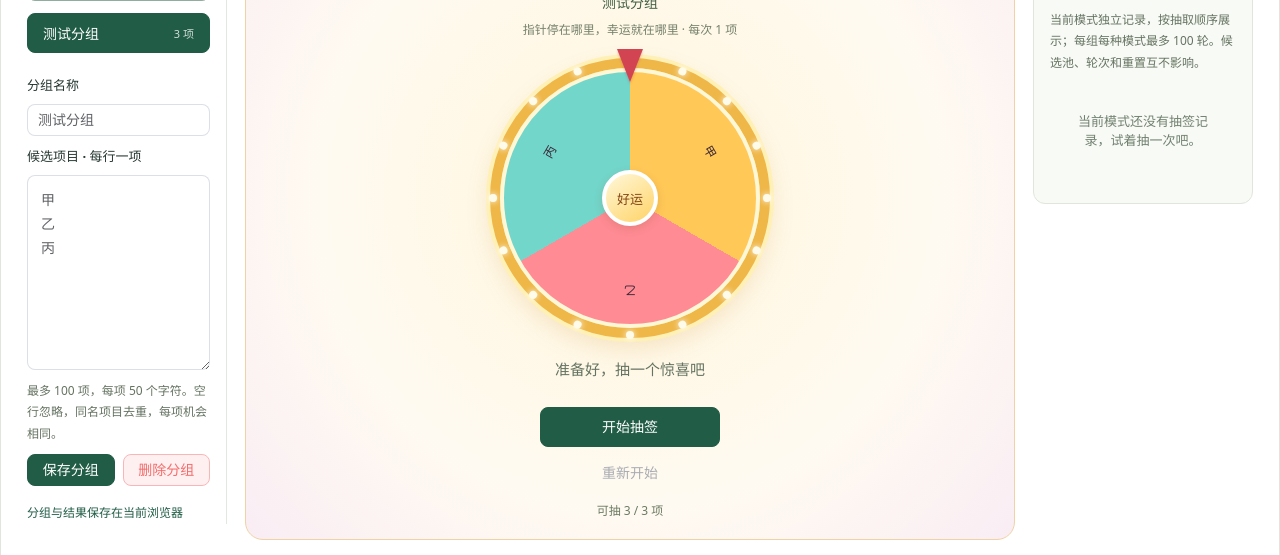
Test: 重置保存失败时弹窗展示错误，保留记录并允许取消
The width and height of the screenshot is (1280, 555).
What coordinates should you click on to do the following:
click the button "开始抽签"
I would click on:
 (630, 427)
Its box is [540, 407, 720, 447].
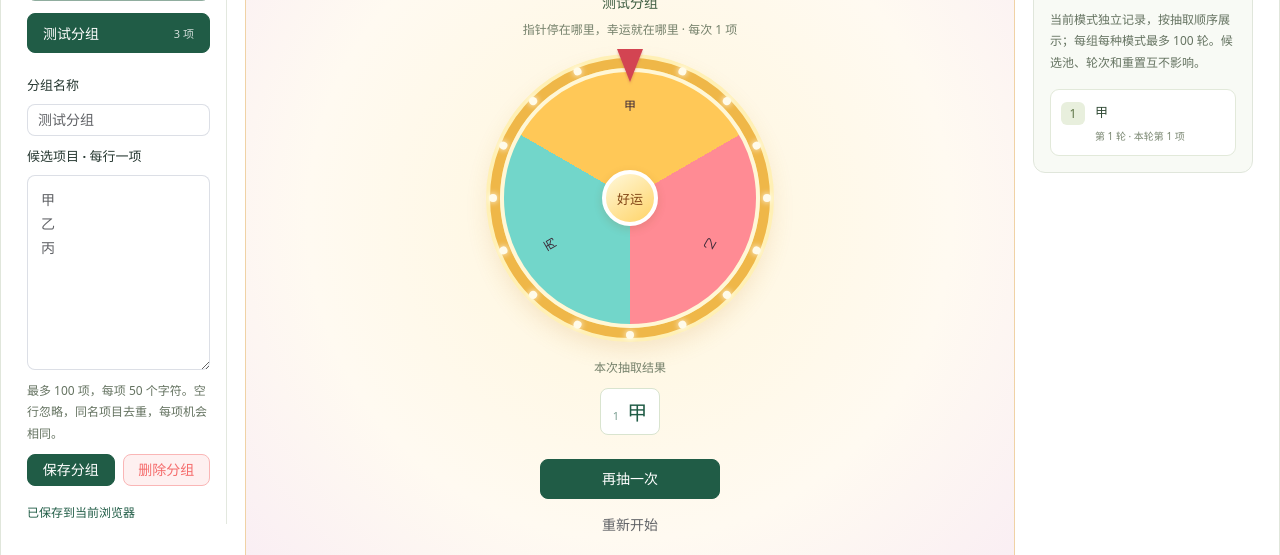
What coordinates should you click on to do the following:
click the button "重新开始"
I would click on:
 (630, 525)
Its box is [587, 509, 673, 541].
(page scrolled)
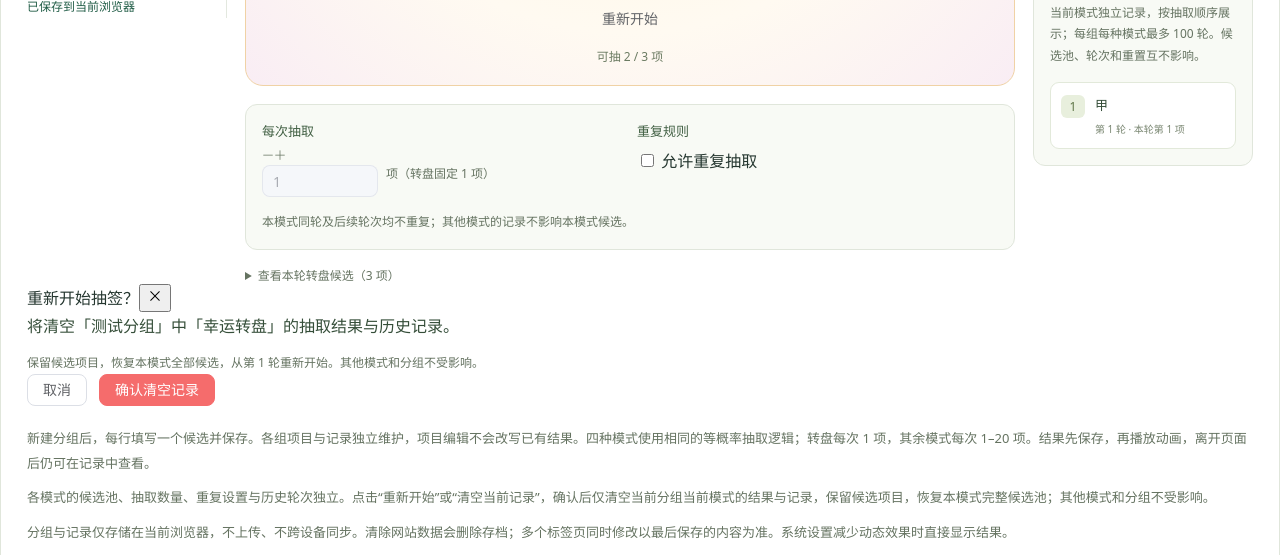
What coordinates should you click on to do the following:
click the button "确认清空记录"
I would click on:
 (157, 390)
Its box is [99, 374, 215, 406].
(page scrolled)
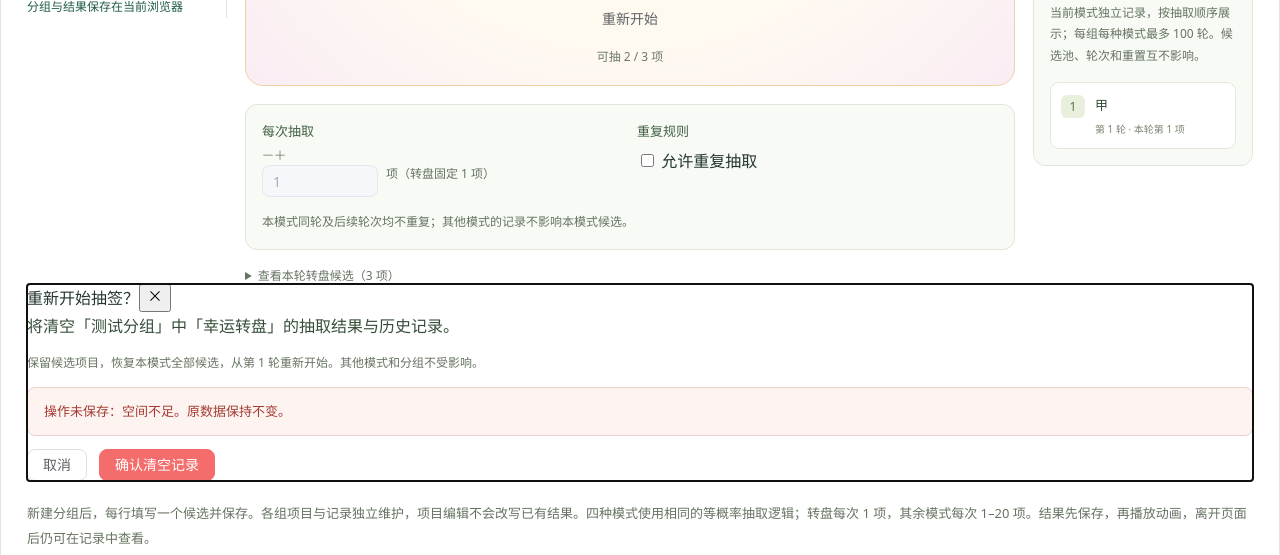
Check: the message "操作未保存：空间不足。原数据保持不变。" is shown, box [27, 387, 1253, 436]
What coordinates should you click on to do the following:
click the button "取消"
I would click on:
 (57, 465)
Its box is [27, 449, 87, 481].
(page scrolled)
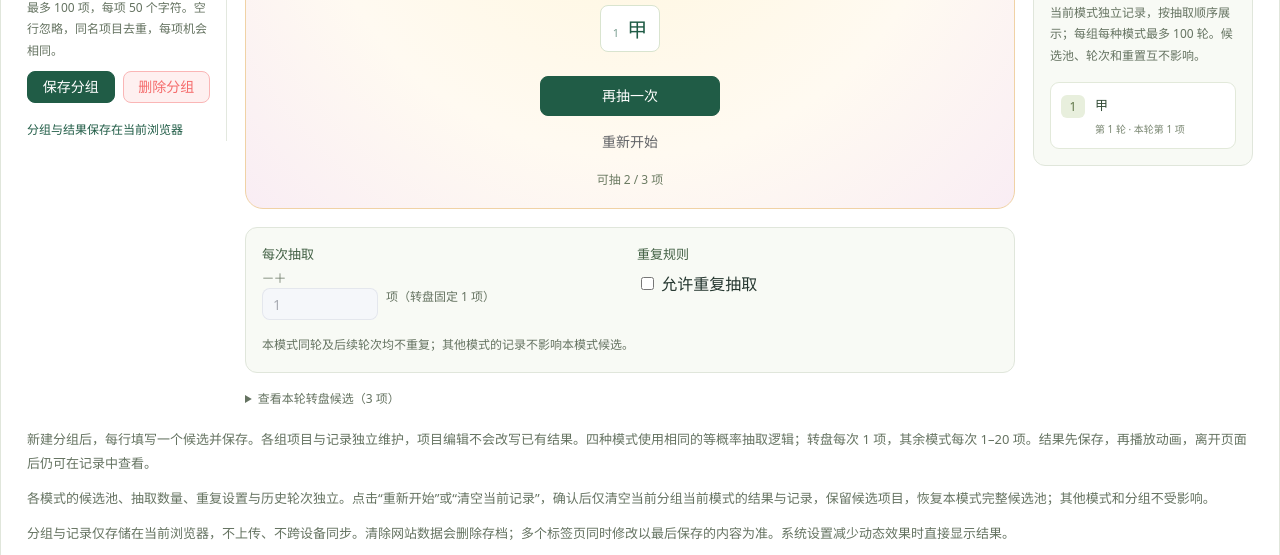
Check: the button "再抽一次" is enabled, box [540, 76, 720, 116]
